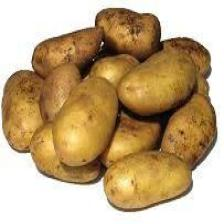Potato: (50, 72, 120, 167), (102, 152, 196, 214), (119, 55, 198, 117)
